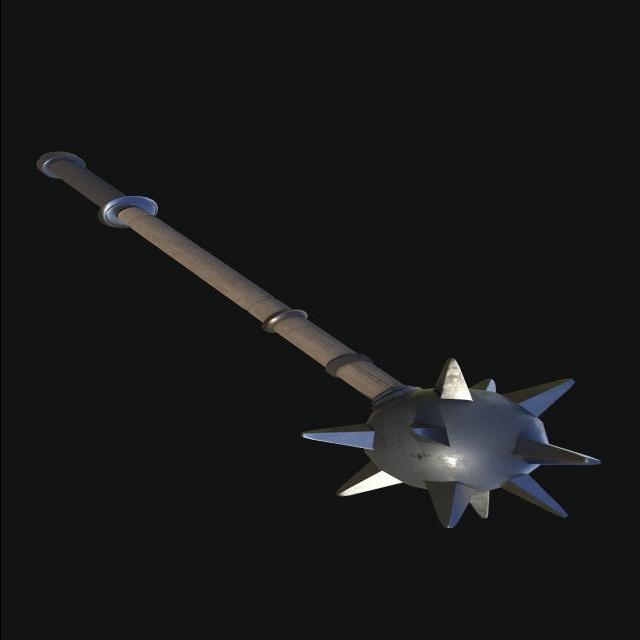mace: (38, 151, 601, 528)
